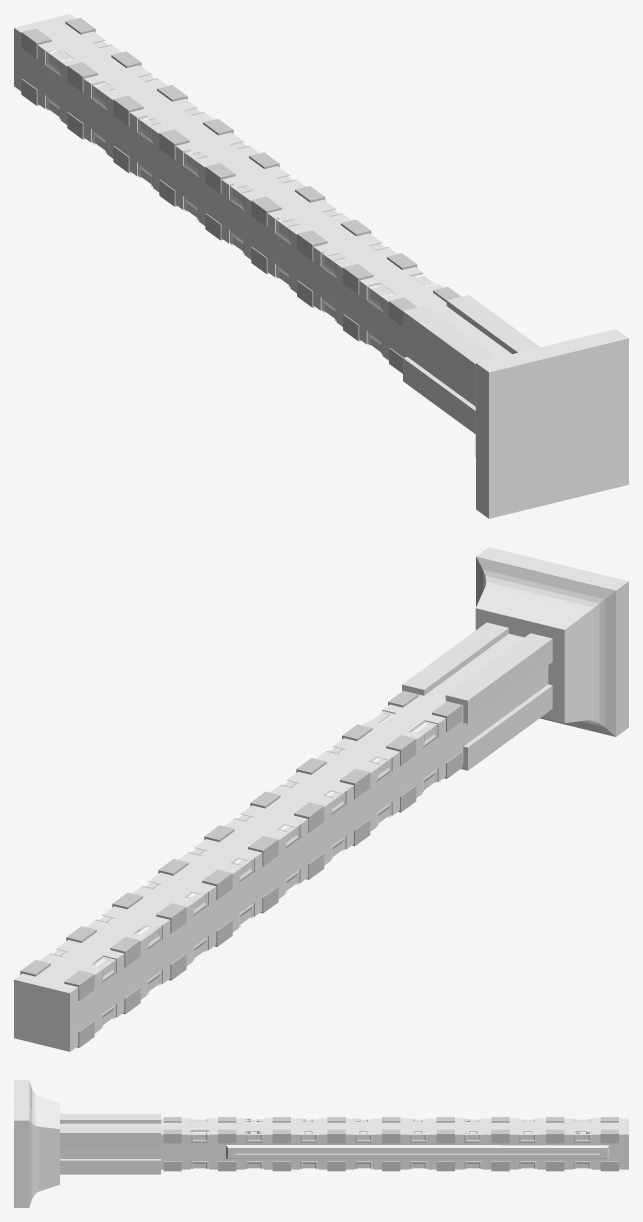
Rendered from PillarPanel.fbx.
3 renders of one model, top to bottom at view 1: azimuth 30°, elevation 25°; view 2: azimuth 150°, elevation 25°; view 3: azimuth 270°, elevation 25°, orthographic. The views are drawn at different scales.
Visible parts, largest first — view 1: Pillar; view 2: Pillar; view 3: Pillar.
Boxes of the visible parts, box(x1,y1,x2,y2) form: Pillar: box(14, 14, 628, 518); Pillar: box(14, 547, 628, 1051); Pillar: box(14, 1080, 628, 1207).
Size of the model in its own units: 0.625 by 0.625 by 4.
